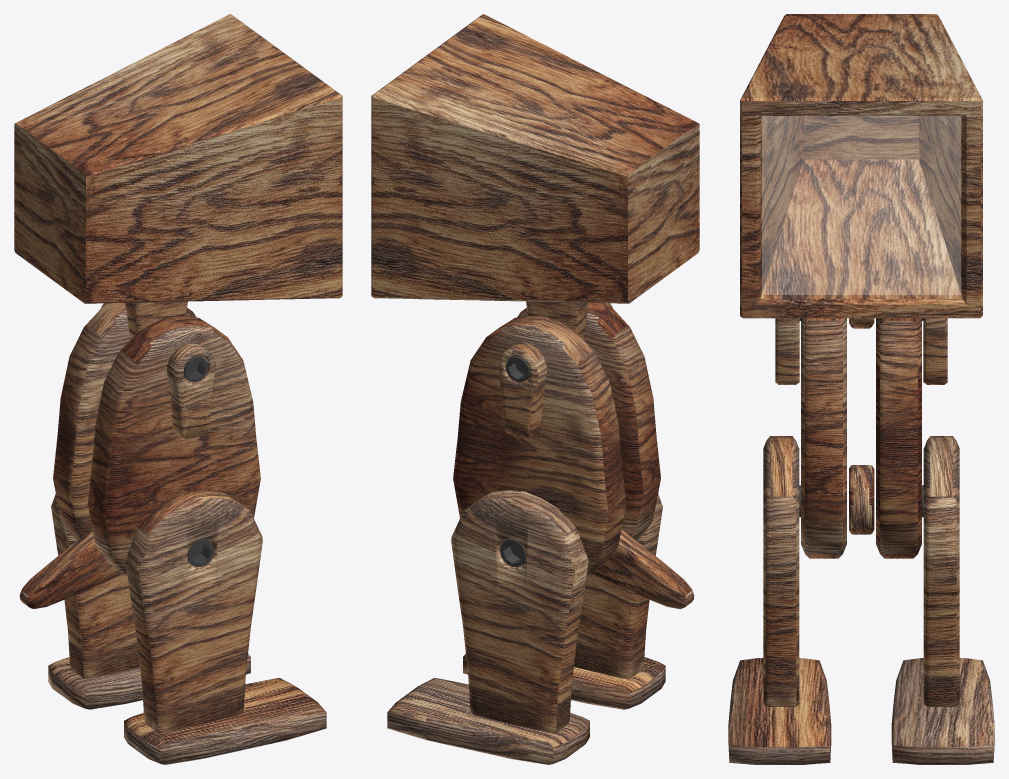
Rendered from lampko.glb.
The picture shows the model from 3 angles, left to right: view 1: azimuth 30°, elevation 25°; view 2: azimuth 150°, elevation 25°; view 3: azimuth 270°, elevation 25°; orthographic projection. The views are drawn at different scales.
Parts seen in each view (by area): view 1: Glava, Telo, Noge, Stopala, Rep, Ruka D, Vrat, ZN; view 2: Glava, Telo, Noge, Stopala, Rep, Ruka L, Vrat, ZN; view 3: Glava, Staklo, Telo, Noge, Stopala, Rep, Ruka D, Ruka L.
Part boxes in pixels (<box>): Glava: <box>14,14,342,303</box>; Telo: <box>53,303,260,575</box>; Noge: <box>51,490,262,732</box>; Stopala: <box>48,654,326,764</box>; Rep: <box>19,529,122,609</box>; Ruka D: <box>166,342,215,438</box>; Vrat: <box>125,301,187,338</box>; ZN: <box>187,539,213,567</box>; Glava: <box>371,14,699,303</box>; Telo: <box>453,303,660,575</box>; Noge: <box>451,490,662,732</box>; Stopala: <box>387,654,665,764</box>; Rep: <box>590,529,694,609</box>; Ruka L: <box>498,342,547,438</box>; Vrat: <box>526,301,588,338</box>; ZN: <box>500,539,526,567</box>; Glava: <box>740,14,982,318</box>; Staklo: <box>762,116,960,294</box>; Telo: <box>801,318,921,558</box>; Noge: <box>763,436,959,706</box>; Stopala: <box>728,658,994,764</box>; Rep: <box>849,465,874,534</box>; Ruka D: <box>775,318,799,384</box>; Ruka L: <box>923,318,947,384</box>.
Bounding box in the file's own units: 3.13 × 7.12 × 2.53.
Materials: 4 (2 with a texture image).
